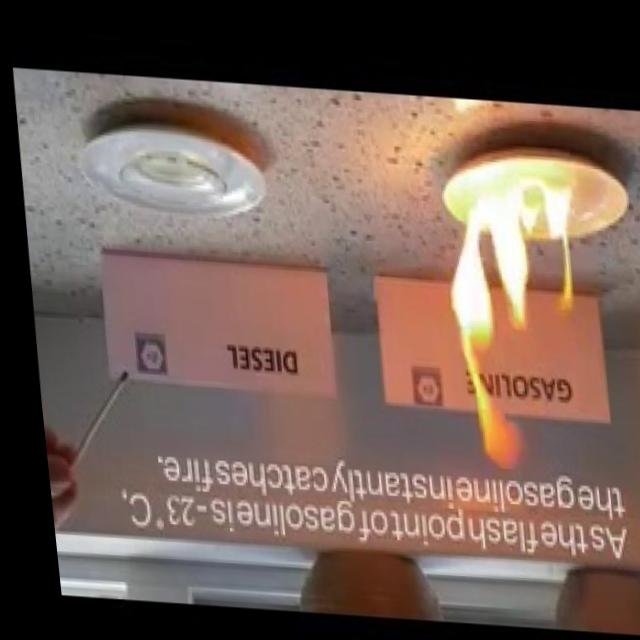Fire: (411, 156, 584, 388)
